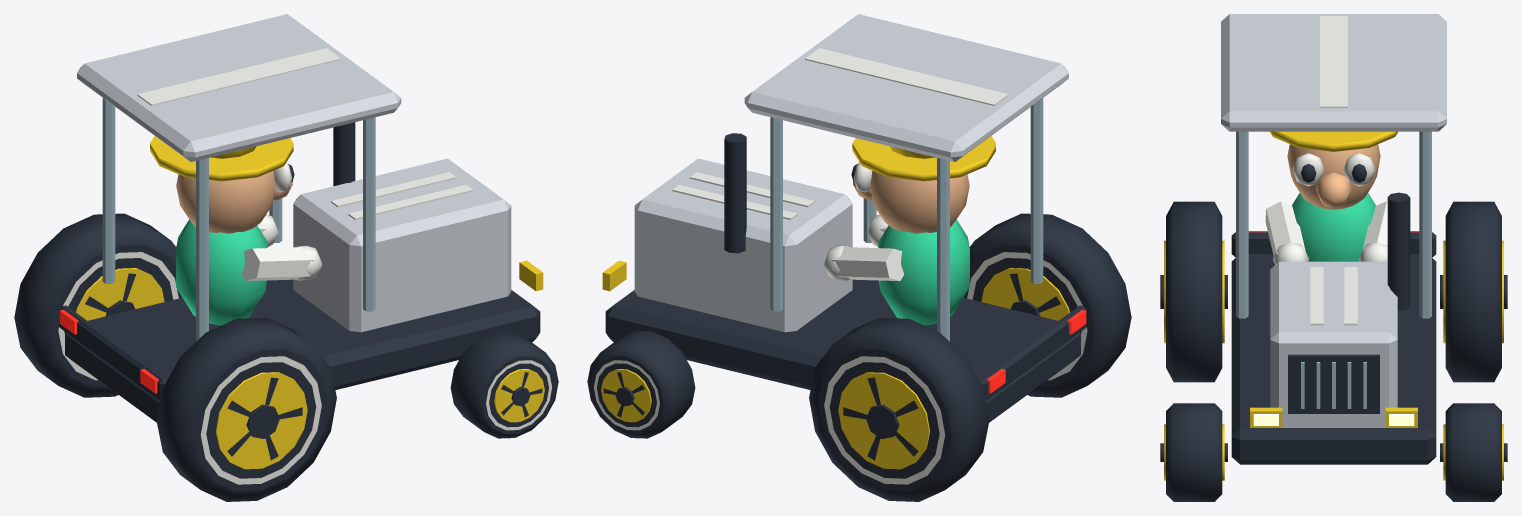
The model's file is kart_5.glb.
The picture shows the model from 3 angles, left to right: view 1: azimuth 30°, elevation 25°; view 2: azimuth 150°, elevation 25°; view 3: azimuth 270°, elevation 25°; orthographic projection.
Parts seen in each view (by area): view 1: detail_Paint, wheel_rr, detail_Rubber, wheel_rl, wheel_fr, detail_Ivory, detail_Chrome, Jacket, detail_Peach, detail_Lemon, detail_Tail light lens; view 2: detail_Paint, wheel_rl, detail_Rubber, wheel_rr, wheel_fl, detail_Ivory, detail_Chrome, Jacket, detail_Peach, detail_Lemon, detail_Tail light lens; view 3: detail_Paint, detail_Rubber, wheel_rl, wheel_rr, detail_Ivory, detail_Chrome, wheel_fl, wheel_fr, Jacket, detail_Peach, detail_Lemon, detail_Warm headlight lens.
Part boxes in pixels (x1,y1,x2,y2): detail_Paint: [77, 14, 511, 332]; wheel_rr: [156, 317, 336, 501]; detail_Rubber: [59, 122, 540, 422]; wheel_rl: [14, 213, 182, 397]; wheel_fr: [450, 331, 558, 438]; detail_Ivory: [137, 48, 473, 280]; detail_Chrome: [102, 98, 375, 341]; Jacket: [176, 219, 267, 325]; detail_Peach: [176, 170, 292, 233]; detail_Lemon: [150, 136, 543, 291]; detail_Tail light lens: [59, 309, 158, 393]; detail_Paint: [634, 14, 1068, 332]; wheel_rl: [809, 317, 989, 501]; detail_Rubber: [605, 133, 1086, 422]; wheel_rr: [963, 213, 1131, 397]; wheel_fl: [587, 331, 695, 438]; detail_Ivory: [672, 48, 1008, 280]; detail_Chrome: [770, 98, 1043, 341]; Jacket: [878, 219, 969, 325]; detail_Peach: [853, 170, 969, 233]; detail_Lemon: [602, 136, 995, 291]; detail_Tail light lens: [987, 309, 1086, 393]; detail_Paint: [1221, 14, 1446, 427]; detail_Rubber: [1231, 164, 1436, 464]; wheel_rl: [1440, 201, 1507, 382]; wheel_rr: [1160, 201, 1227, 382]; detail_Ivory: [1265, 16, 1387, 325]; detail_Chrome: [1236, 131, 1431, 408]; wheel_fl: [1440, 403, 1507, 501]; wheel_fr: [1160, 403, 1227, 501]; Jacket: [1292, 193, 1375, 261]; detail_Peach: [1287, 144, 1380, 209]; detail_Lemon: [1250, 131, 1417, 427]; detail_Warm headlight lens: [1253, 414, 1414, 425].
Bounding box in the file's own units: 3.27 × 2.68 × 2.46.
